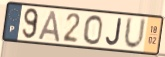2: (62, 12, 82, 43)
9: (21, 7, 40, 41)
A: (37, 9, 61, 43)
J: (105, 17, 123, 47)
O: (82, 14, 104, 46)
U: (123, 15, 148, 52)
